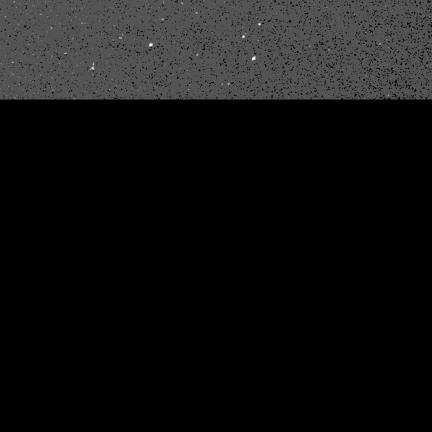blob: (149, 43, 153, 47), (252, 57, 255, 60)
